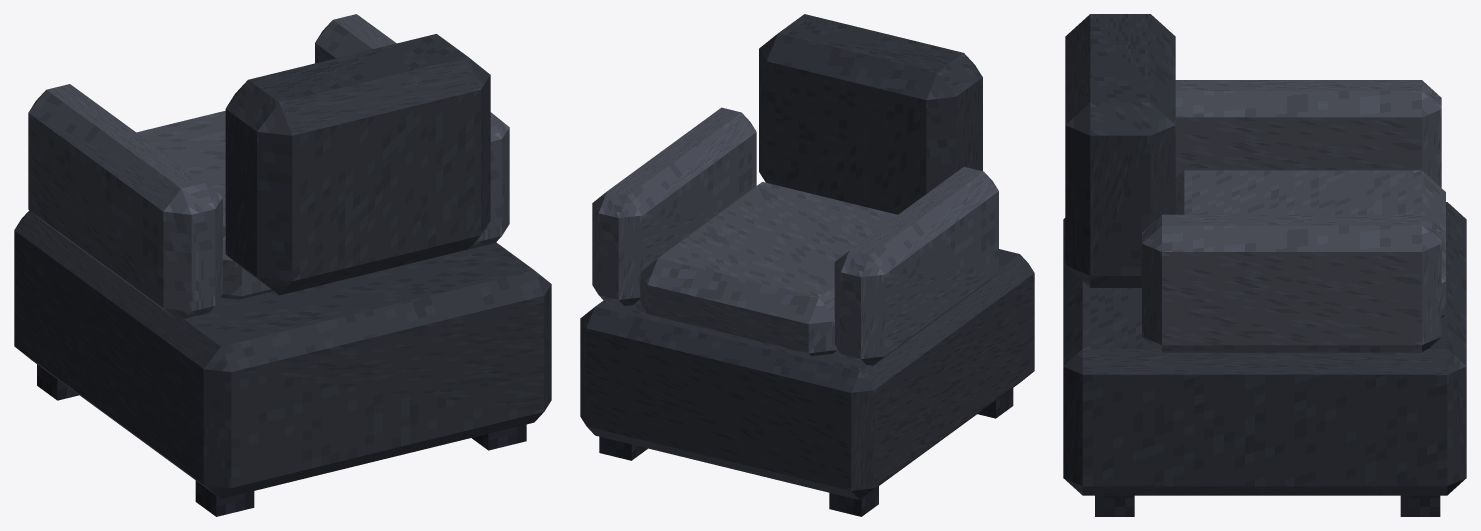
Rendered from f_vitrified_armchair.glb.
3 renders of one model, left to right at view 1: azimuth 30°, elevation 25°; view 2: azimuth 150°, elevation 25°; view 3: azimuth 270°, elevation 25°, orthographic. The views are drawn at different scales.
Parts seen in each view (by area): view 1: block_black-glass-upholstered-plinth, block_cold-glass-back-cushion, block_overstuffed-glass-arm-cushion (×2), block_overstuffed-glassy-seat-cushion, block_hard-glass-sofa-foot (×3); view 2: block_black-glass-upholstered-plinth, block_overstuffed-glass-arm-cushion (×2), block_cold-glass-back-cushion, block_overstuffed-glassy-seat-cushion, block_hard-glass-sofa-foot (×3); view 3: block_black-glass-upholstered-plinth, block_overstuffed-glass-arm-cushion (×2), block_cold-glass-back-cushion, block_overstuffed-glassy-seat-cushion, block_hard-glass-sofa-foot (×2).
Part boxes in pixels (x1=…): block_black-glass-upholstered-plinth: x1=14, y1=210, x2=551, y2=498; block_cold-glass-back-cushion: x1=225, y1=34, x2=490, y2=295; block_overstuffed-glass-arm-cushion (×2): x1=28, y1=14, x2=509, y2=319; block_overstuffed-glassy-seat-cushion: x1=136, y1=110, x2=273, y2=299; block_hard-glass-sofa-foot (×3): x1=37, y1=364, x2=526, y2=516; block_black-glass-upholstered-plinth: x1=580, y1=249, x2=1034, y2=499; block_overstuffed-glass-arm-cushion (×2): x1=592, y1=107, x2=998, y2=365; block_cold-glass-back-cushion: x1=759, y1=14, x2=982, y2=214; block_overstuffed-glassy-seat-cushion: x1=640, y1=182, x2=897, y2=356; block_hard-glass-sofa-foot (×3): x1=599, y1=388, x2=1013, y2=516; block_black-glass-upholstered-plinth: x1=1063, y1=202, x2=1466, y2=495; block_overstuffed-glass-arm-cushion (×2): x1=1142, y1=80, x2=1441, y2=352; block_cold-glass-back-cushion: x1=1065, y1=14, x2=1175, y2=287; block_overstuffed-glassy-seat-cushion: x1=1175, y1=170, x2=1445, y2=317; block_hard-glass-sofa-foot (×2): x1=1095, y1=495, x2=1440, y2=516.
Size of the model in its own units: 0.76 by 0.837 by 0.793.
1 material, 1 textured.
